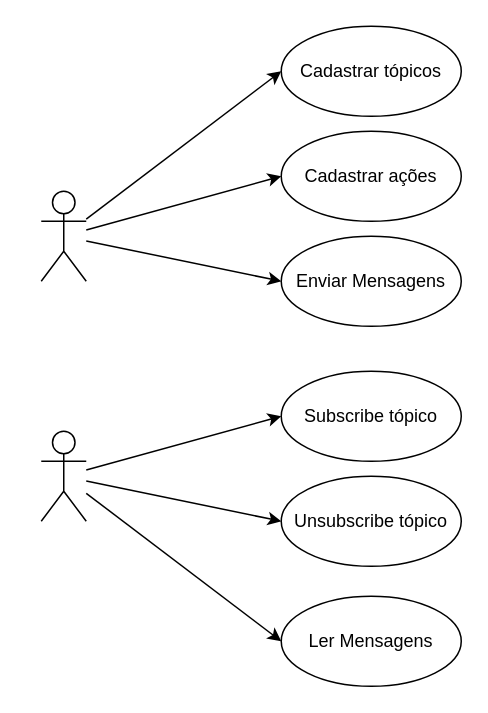
Some shapes in this 488 by 713 pixel diagram are drawn without their labels. The centre of each missing label's shape, as x and y in pixels:
"Actor" goes at pixel 63 475.
"Publisher" goes at pixel 63 235.
